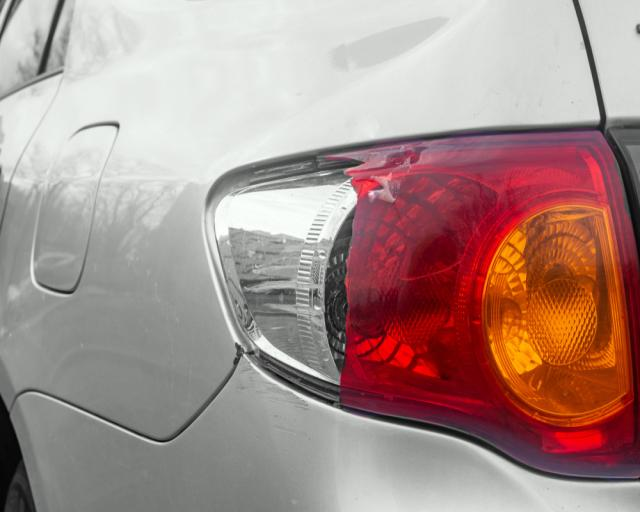lamp broken: (211, 129, 640, 481)
scratch: (235, 359, 309, 435)
